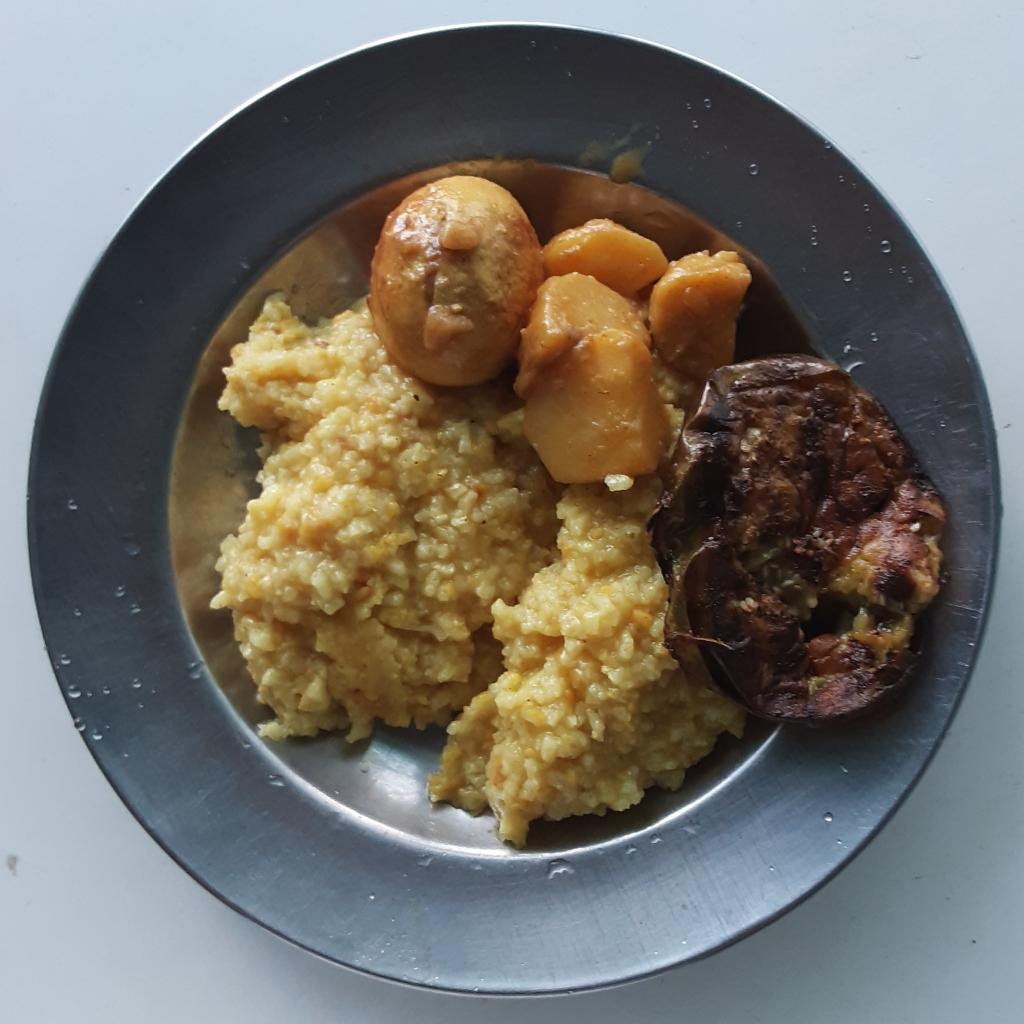begun-vaji: (642, 350, 939, 723)
egg-boiled: (370, 176, 544, 381)
khichuri: (208, 295, 744, 850)
potato: (515, 218, 746, 484)
